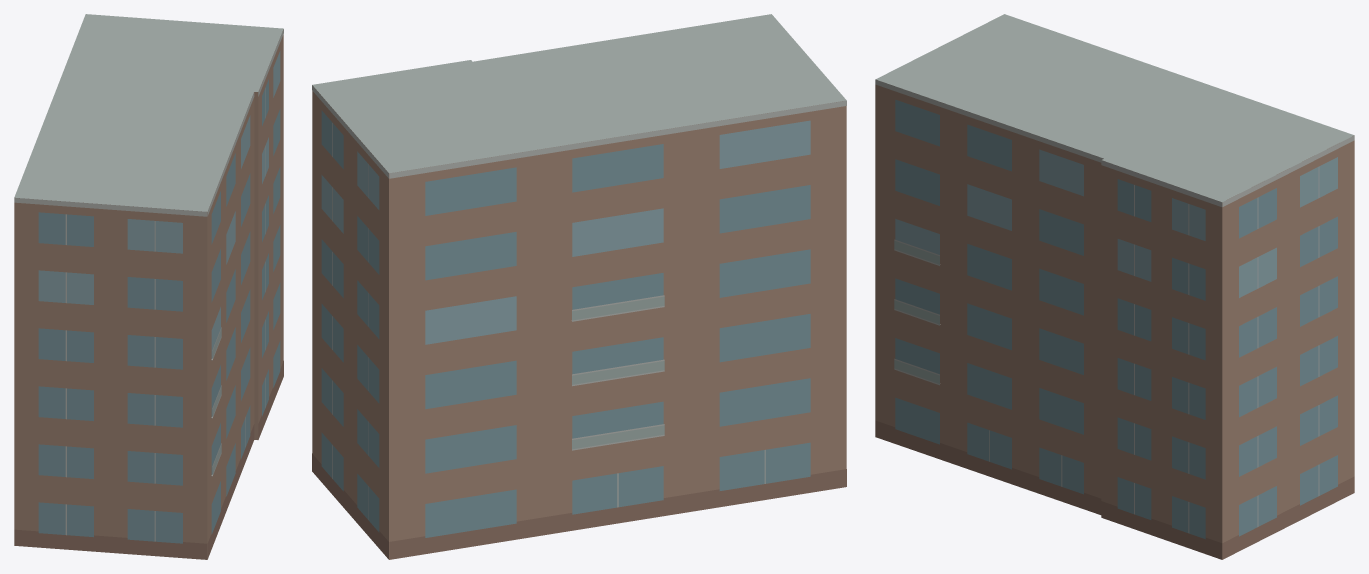
File: survey-upis-32669918.glb
The picture shows the model from 3 angles, left to right: view 1: azimuth 30°, elevation 25°; view 2: azimuth 150°, elevation 25°; view 3: azimuth 270°, elevation 25°; orthographic projection. The views are drawn at different scales.
Visible parts, largest first — view 1: survey-upis-32669918.tmp; view 2: survey-upis-32669918.tmp; view 3: survey-upis-32669918.tmp.
Part boxes in pixels (box(x1,y1,x2,y2)): survey-upis-32669918.tmp: box(14, 14, 283, 559); survey-upis-32669918.tmp: box(312, 14, 846, 559); survey-upis-32669918.tmp: box(875, 14, 1354, 559).
Size of the model in its own units: 19.43 by 17.2 by 20.89.
